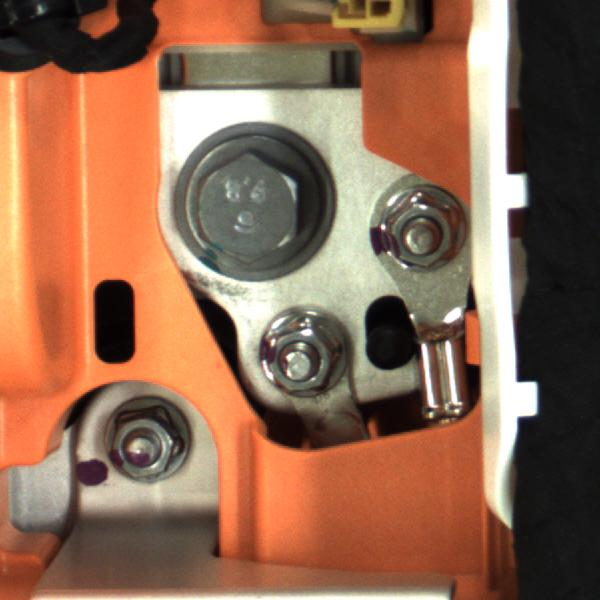nut_b: (161, 123, 336, 268)
screw_s: (251, 307, 357, 405), (93, 392, 199, 482), (370, 181, 471, 271)
